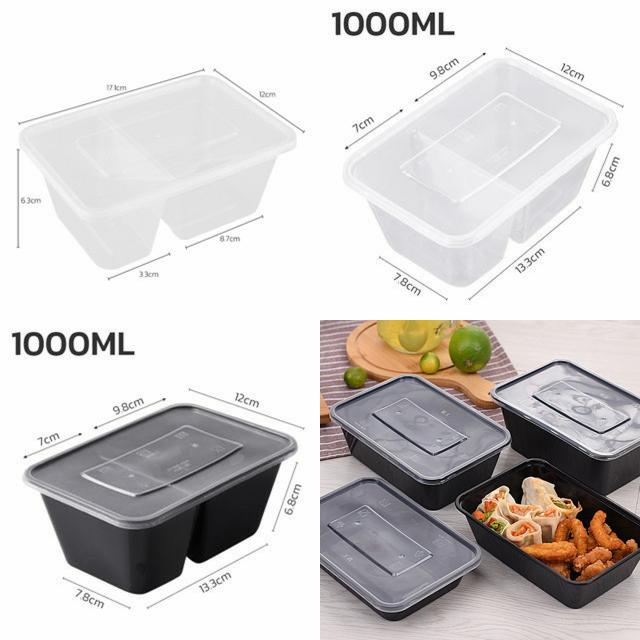Single-Use-Plastic: (345, 59, 616, 284), (20, 72, 295, 269), (25, 405, 296, 593), (455, 458, 640, 608), (330, 375, 510, 509), (321, 478, 481, 620), (491, 360, 640, 494)
